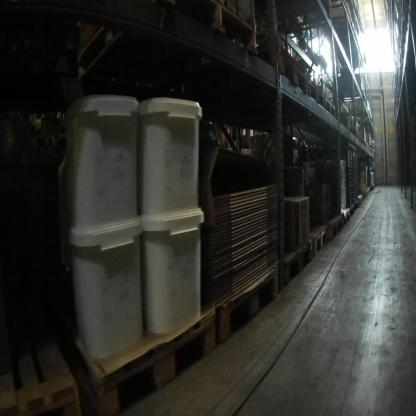pallet: (60, 282, 223, 412), (66, 2, 260, 95), (0, 303, 90, 414), (211, 36, 310, 113), (211, 263, 281, 355), (274, 236, 314, 285), (314, 17, 358, 44), (311, 215, 344, 250), (306, 77, 325, 119), (308, 224, 329, 254), (333, 210, 350, 233), (325, 99, 338, 126), (346, 130, 361, 143), (354, 194, 364, 210), (357, 134, 365, 147), (364, 189, 367, 202)
stillage: (326, 146, 353, 212), (349, 145, 359, 203)
